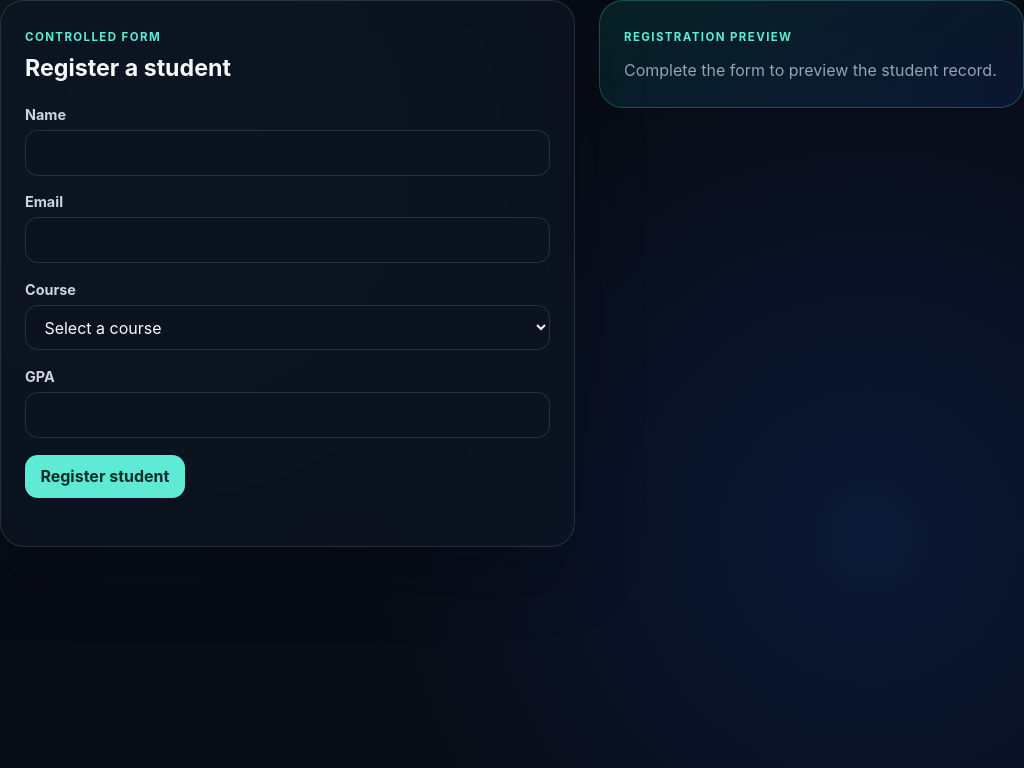
StudentRegistrationForm › uses controlled inputs and shows a preview after submission
The width and height of the screenshot is (1024, 768).
Type "Adham Ewaida" into the field labelled "Name" at (288,153), box [25,130,550,176]
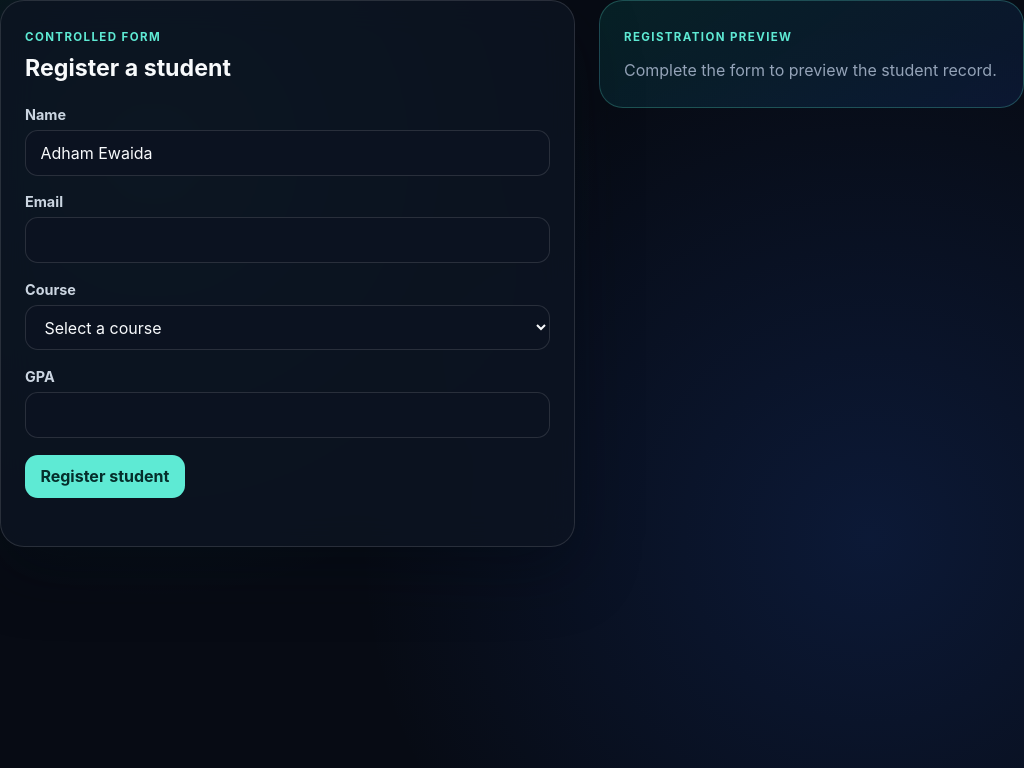
Type "adham@example.com" into the field labelled "Email" at (288,240), box [25,217,550,263]
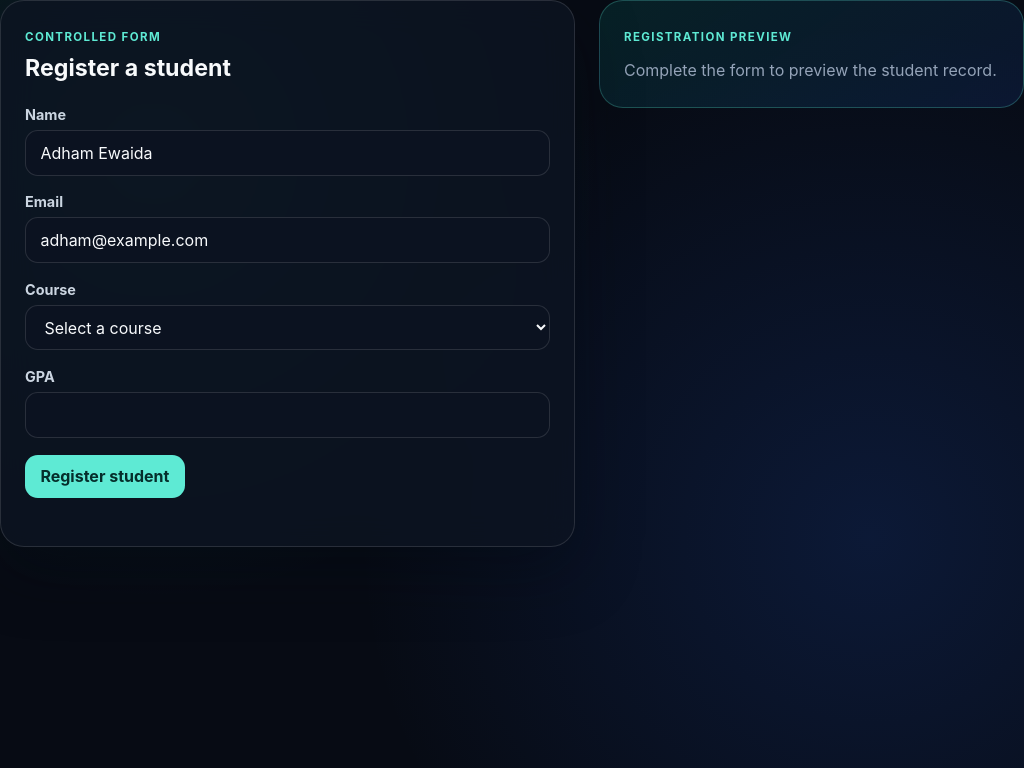
Select "Computer Science" in the dropdown labelled "Course" at (288,328), box [25,305,550,350]
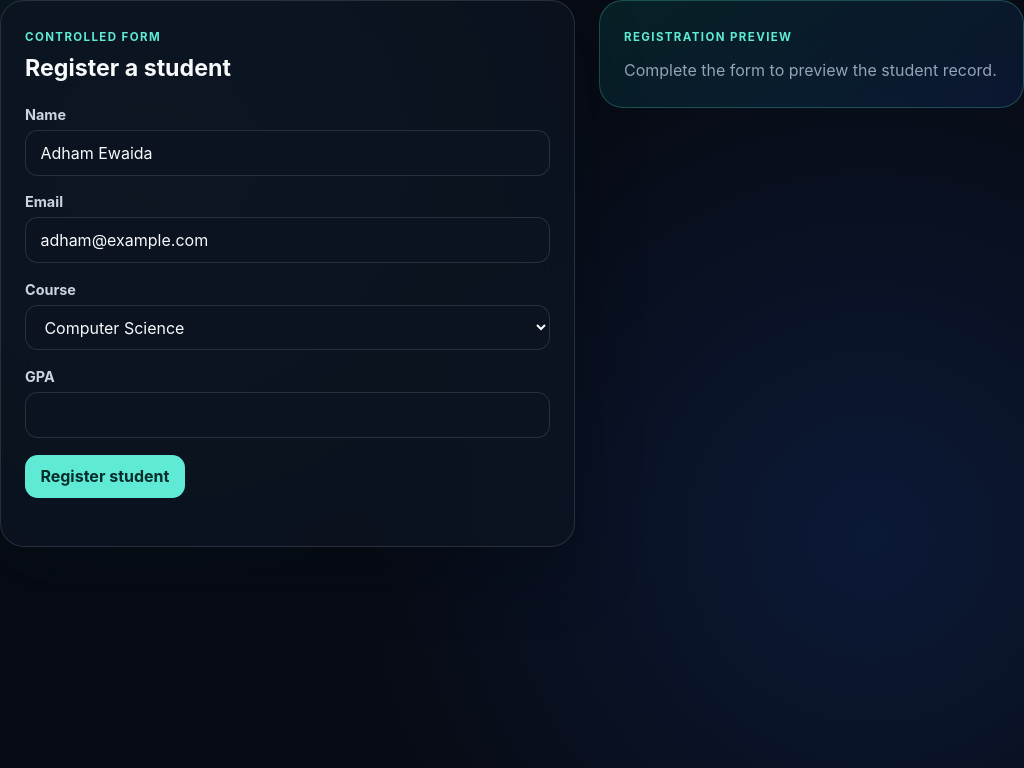
Type "3.75" into the number field labelled "GPA" at (288,415), box [25,392,550,438]
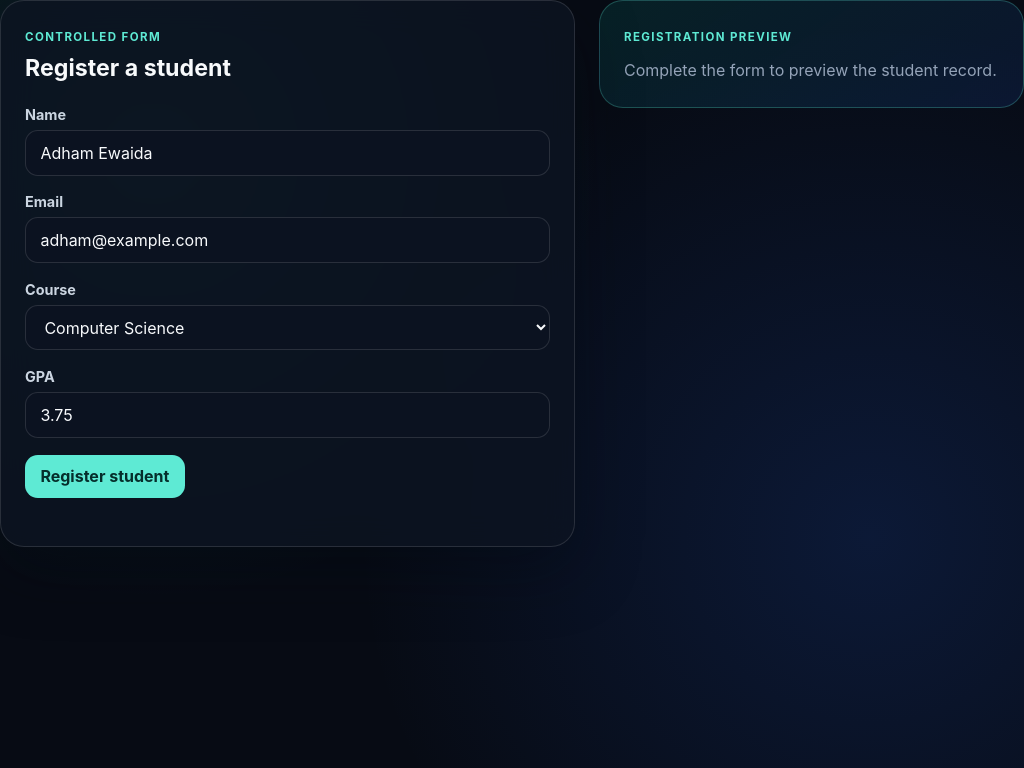
Click the button "Register student" at (105,476), box [25,455,185,498]
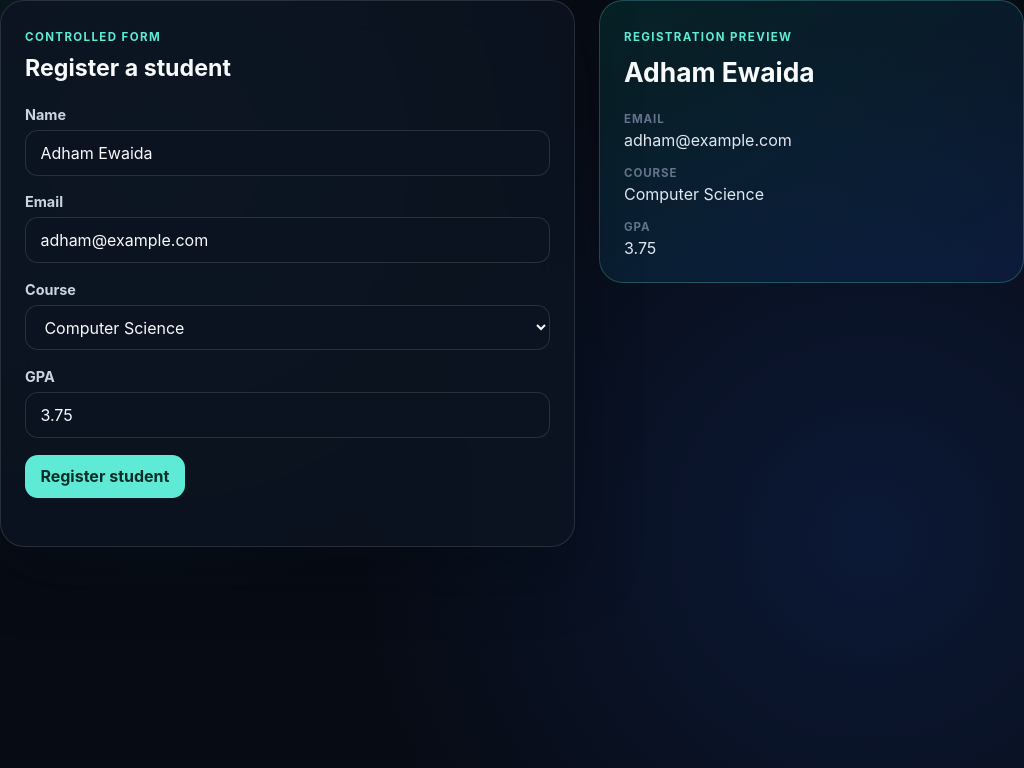
Now the heading "Adham Ewaida" is shown, box [624,56,815,88]
Now the text "adham@example.com" is shown, box [624,130,792,150]
Now the text "Computer Science" is shown, box [624,184,764,204]
